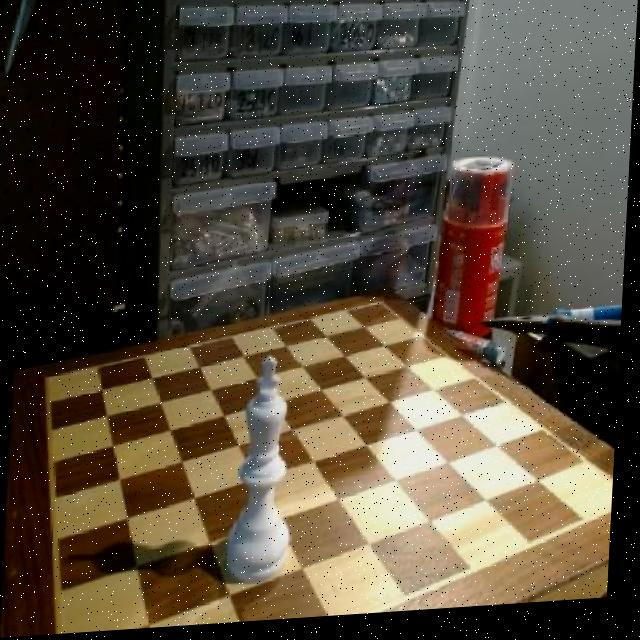white-bishop: (234, 357, 305, 587)
